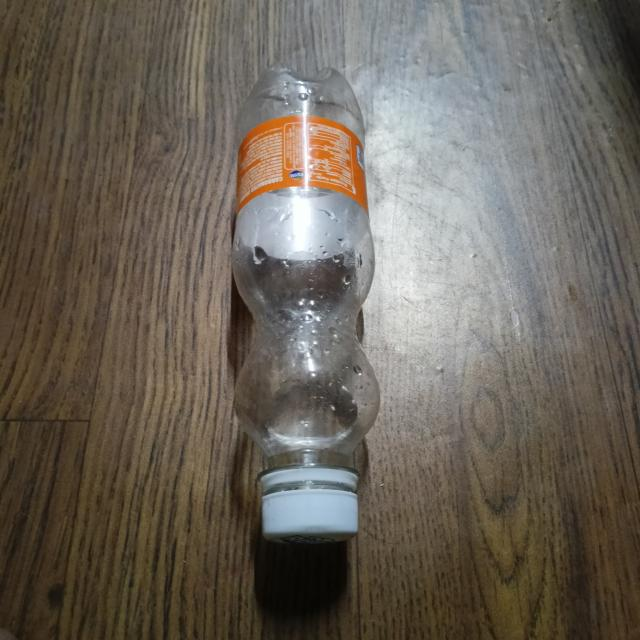Bottle: (232, 63, 380, 544)
